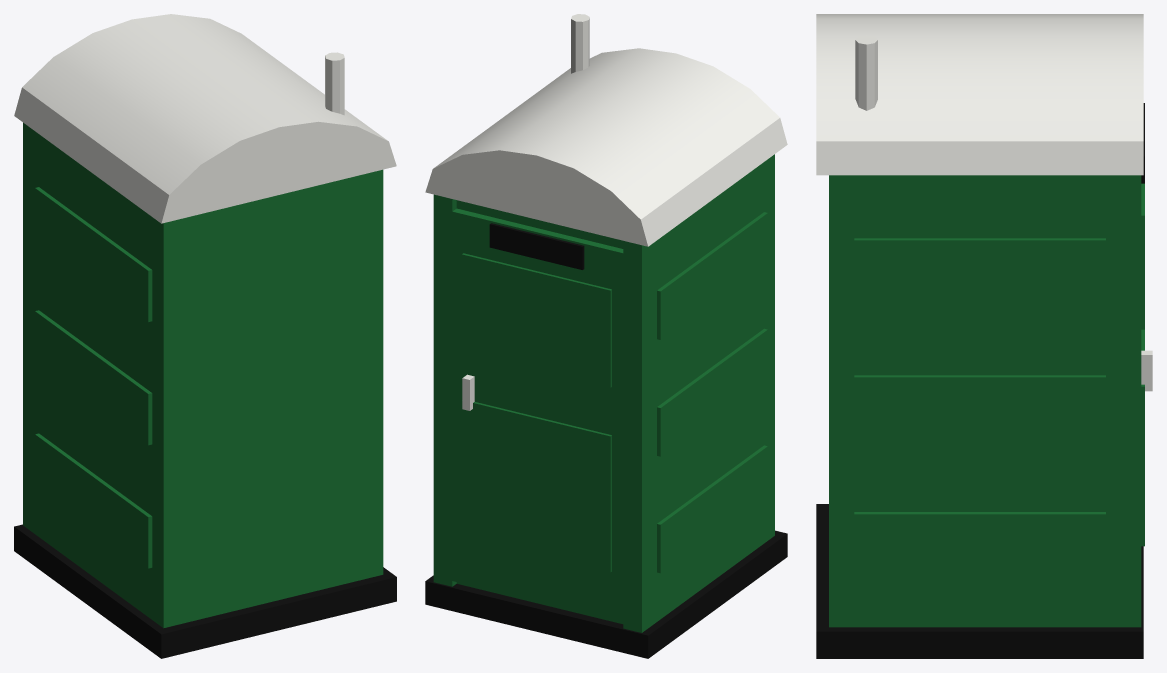
Rendered from plant.cabin.toilet_green.glb.
3 views of the same model, side by side, from view 1: azimuth 30°, elevation 25°; view 2: azimuth 150°, elevation 25°; view 3: azimuth 270°, elevation 25° (orthographic). The views are drawn at different scales.
Visible parts, largest first — view 1: main__plastic_green, main__paint_white, main__plastic_black; view 2: main__plastic_green, main__paint_white, main__plastic_black; view 3: main__plastic_green, main__paint_white, main__plastic_black.
Part boxes in pixels (bbox=[...]): main__plastic_green: bbox=[23, 122, 383, 628]; main__paint_white: bbox=[14, 14, 396, 223]; main__plastic_black: bbox=[14, 524, 396, 658]; main__plastic_green: bbox=[433, 154, 774, 632]; main__paint_white: bbox=[425, 14, 787, 410]; main__plastic_black: bbox=[425, 223, 787, 658]; main__plastic_green: bbox=[829, 175, 1144, 627]; main__paint_white: bbox=[816, 14, 1152, 391]; main__plastic_black: bbox=[816, 103, 1144, 658].
Size of the model in its own units: 1.2 by 2.62 by 1.33.
